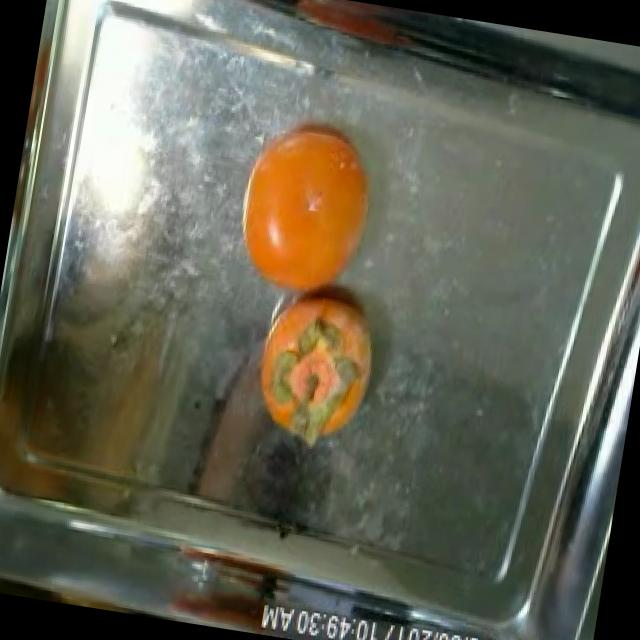Fruit: (218, 89, 404, 328), (170, 339, 334, 546), (240, 276, 398, 464)
